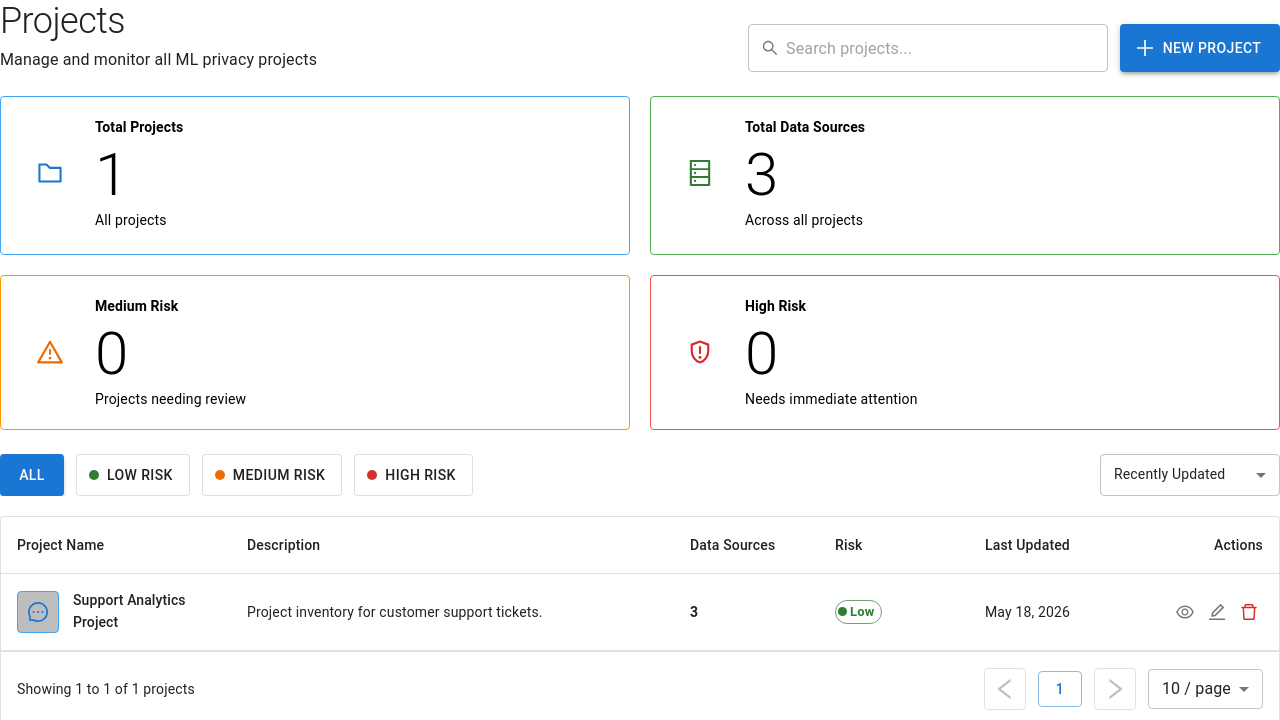
Projects page › deletes a project after confirmation and updates the cache
The image size is (1280, 720).
Expected: the heading "Support Analytics Project" is shown, [73, 592, 186, 630]
Step 1. Click the button named "Delete Support Analytics Project" → (1249, 612), box [1235, 598, 1263, 626]
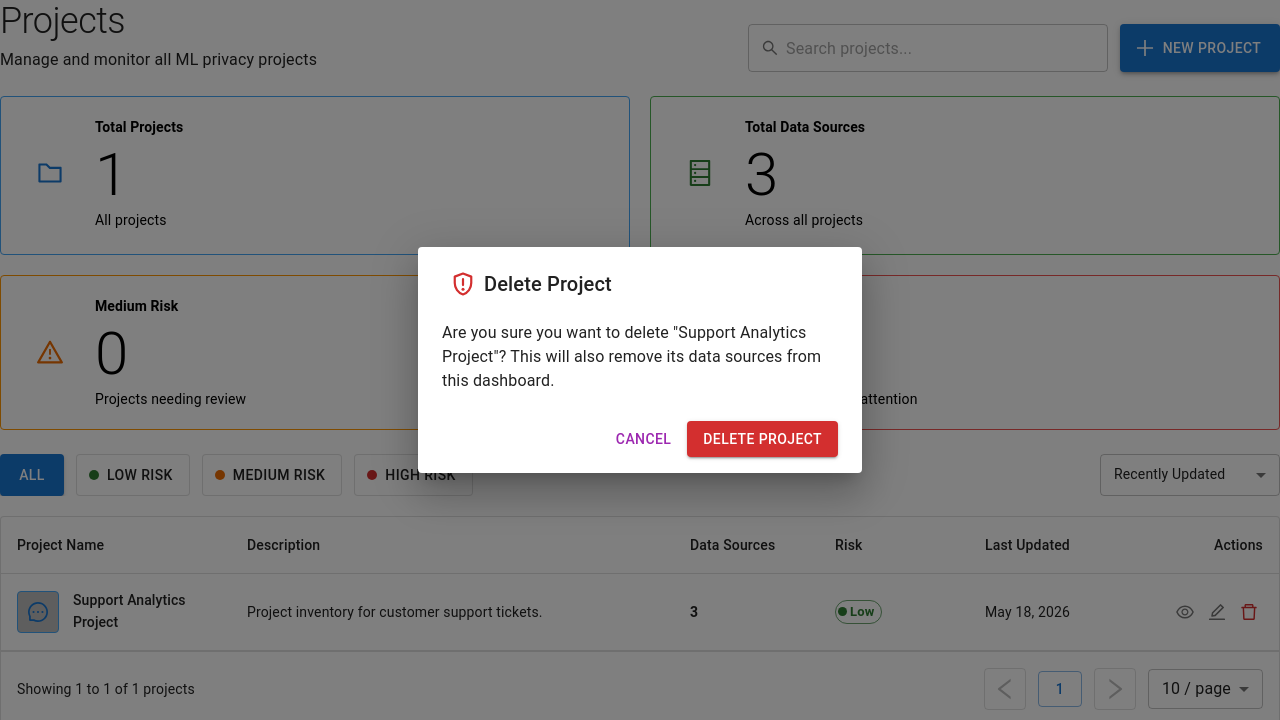
Step 2. Click the button "Delete Project" → (763, 439), box [687, 421, 838, 457]
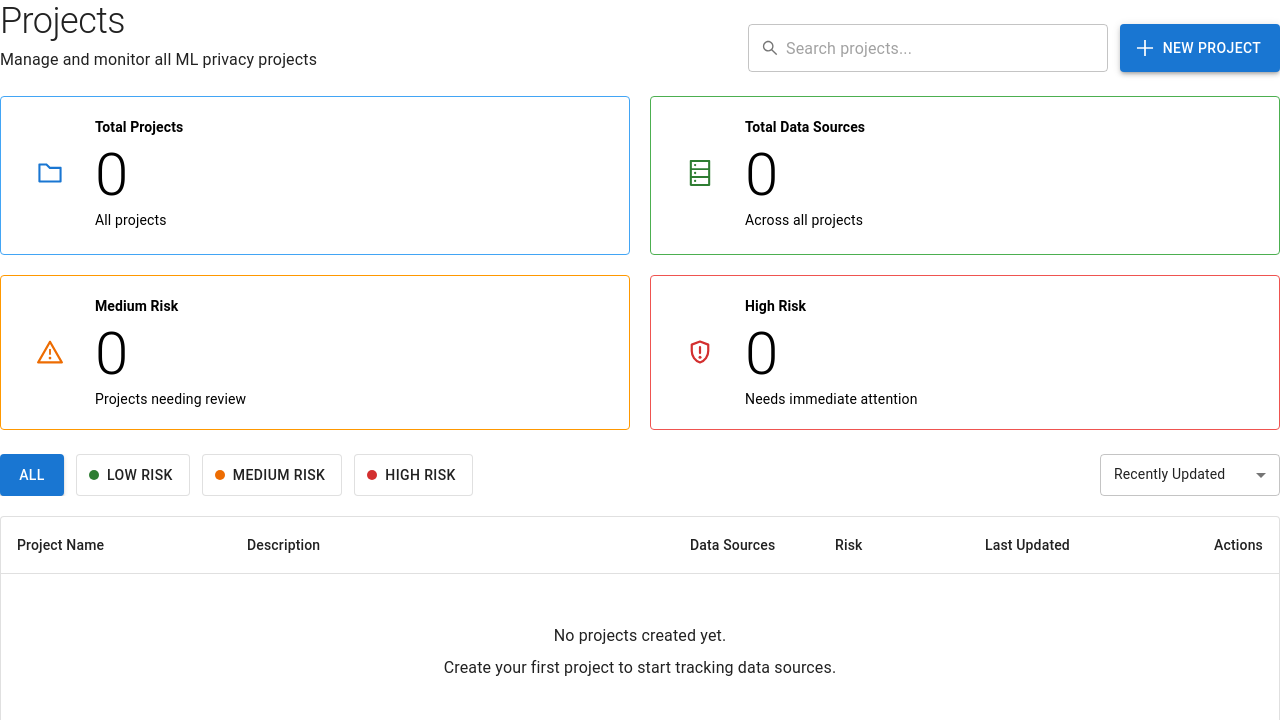
Expected: the heading "Support Analytics Project" is gone
